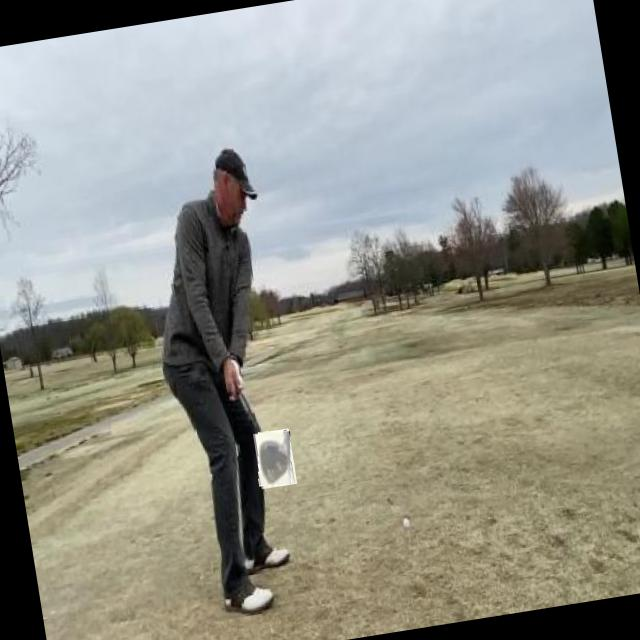club head: (253, 428, 297, 489)
